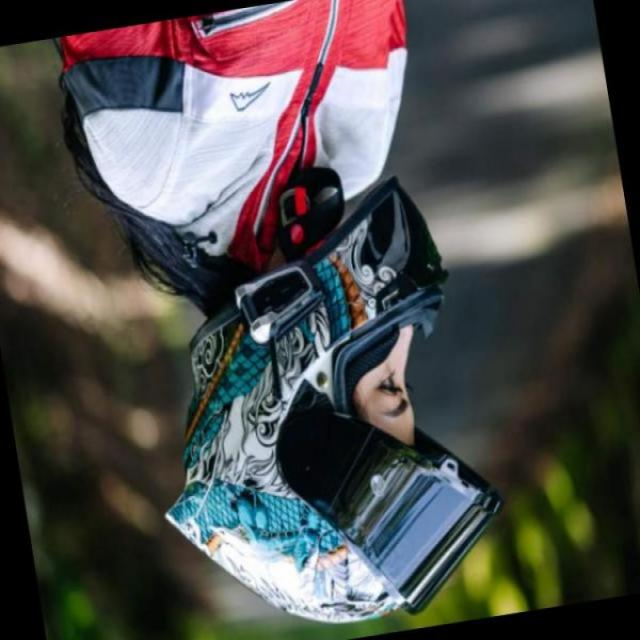Helmet: (174, 262, 533, 619)
